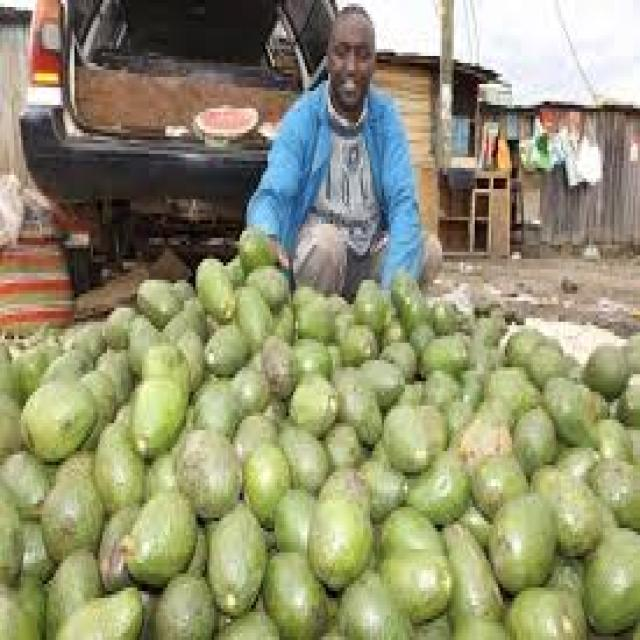biodegradable: (310, 462, 373, 588), (119, 490, 198, 588), (40, 441, 103, 556), (205, 500, 268, 612), (16, 374, 93, 462), (487, 483, 552, 581), (440, 514, 500, 619), (526, 458, 596, 546), (377, 546, 454, 623), (582, 532, 638, 633), (121, 500, 193, 577), (333, 567, 410, 637), (177, 434, 244, 514), (42, 542, 100, 633), (263, 546, 326, 626), (400, 451, 470, 521), (56, 581, 142, 637), (380, 392, 443, 465), (149, 570, 214, 637), (93, 423, 144, 507), (128, 367, 184, 441), (505, 584, 582, 637), (98, 500, 147, 581), (377, 504, 445, 560), (244, 444, 291, 525), (273, 420, 324, 490), (543, 374, 594, 441), (512, 402, 556, 479), (333, 360, 375, 437), (591, 458, 638, 525), (361, 448, 405, 518), (0, 574, 47, 637), (484, 360, 542, 409), (468, 451, 526, 500), (0, 448, 42, 511), (580, 343, 626, 399), (140, 343, 191, 392), (233, 413, 277, 469), (289, 374, 335, 427), (456, 413, 514, 455), (422, 364, 480, 406), (189, 385, 235, 437), (193, 102, 256, 137), (361, 357, 405, 406), (0, 486, 21, 588), (156, 311, 191, 371), (258, 329, 291, 392), (140, 273, 182, 322), (593, 413, 633, 462), (196, 255, 228, 315), (414, 329, 468, 364), (351, 273, 384, 329), (245, 263, 289, 305), (201, 325, 245, 367), (291, 287, 330, 332), (526, 339, 570, 378), (233, 227, 277, 266), (145, 451, 182, 497), (100, 350, 130, 406), (226, 371, 270, 409), (221, 609, 279, 637), (382, 336, 417, 381), (291, 329, 328, 371), (470, 315, 496, 374), (81, 367, 114, 413), (335, 322, 375, 357), (235, 291, 268, 333), (177, 329, 205, 378), (44, 343, 91, 371), (498, 329, 542, 357), (0, 395, 19, 458), (105, 301, 130, 346), (131, 318, 152, 371), (428, 298, 459, 333), (16, 343, 40, 388), (0, 342, 16, 402), (68, 322, 105, 346), (405, 287, 424, 332), (319, 294, 349, 322), (617, 381, 638, 420), (554, 553, 579, 584), (389, 259, 407, 301), (221, 252, 244, 283), (172, 276, 196, 301), (624, 332, 638, 371), (472, 297, 496, 315), (561, 276, 579, 294), (258, 119, 275, 136)
